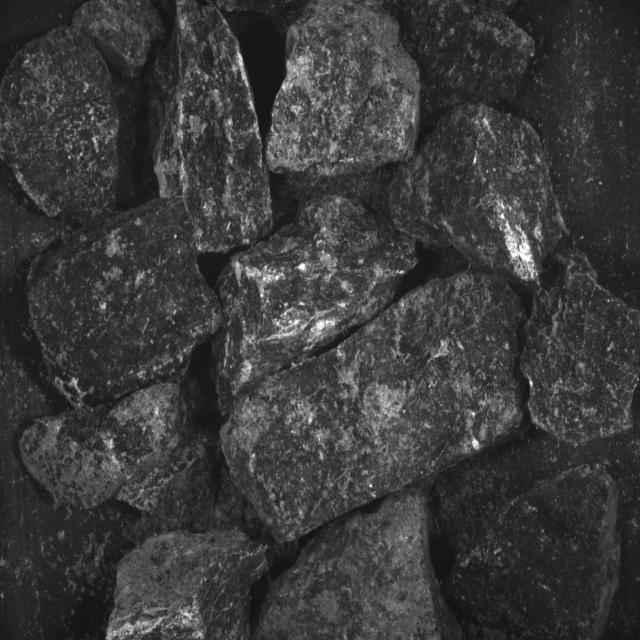Stones: (222, 273, 524, 542), (215, 197, 417, 411), (29, 199, 221, 408), (390, 105, 566, 286), (444, 466, 621, 640), (150, 1, 272, 253), (259, 488, 461, 640), (445, 466, 621, 640), (21, 384, 216, 529), (267, 1, 421, 177), (1, 28, 120, 224), (522, 253, 640, 444), (21, 384, 186, 510), (386, 1, 536, 128), (107, 533, 269, 640), (74, 1, 166, 79)
